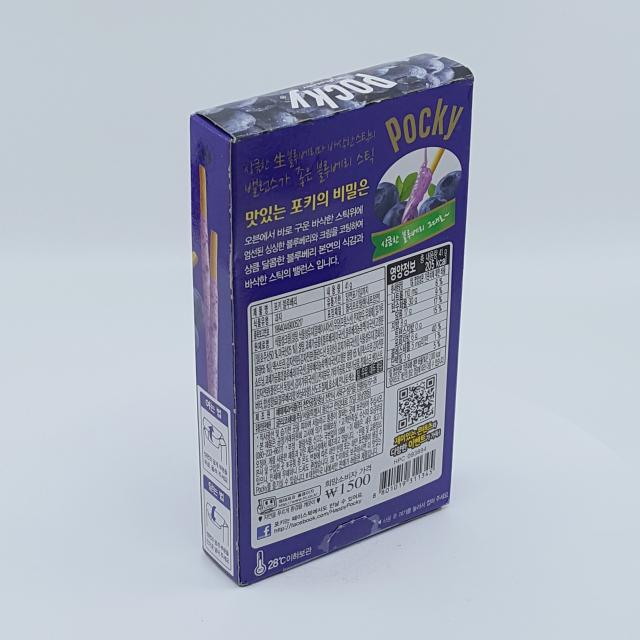-41G: (190, 53, 475, 588)
